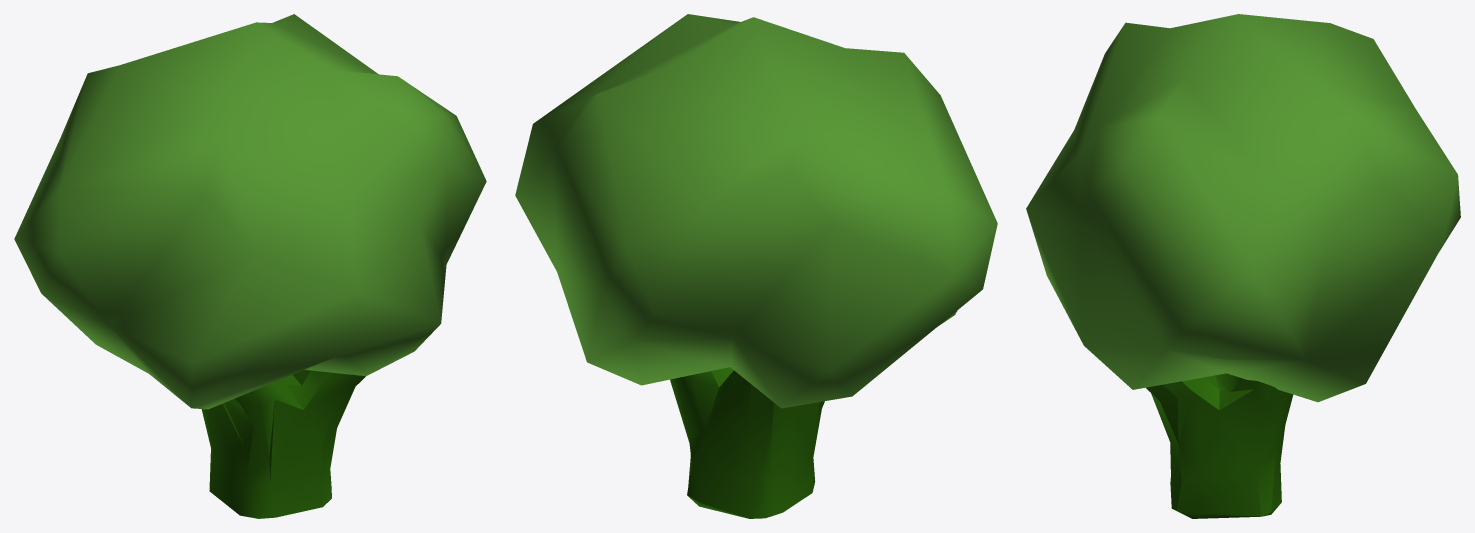
The model's file is brocoli.fbx.
3 renders of one model, left to right at view 1: azimuth 30°, elevation 25°; view 2: azimuth 150°, elevation 25°; view 3: azimuth 270°, elevation 25°, orthographic. The views are drawn at different scales.
Visible parts, largest first — view 1: Mball.014, Cube.001; view 2: Mball.014, Cube.001; view 3: Mball.014, Cube.001.
Part boxes in pixels (x1,y1,x2,y2): Mball.014: (14, 14, 486, 409); Cube.001: (201, 370, 365, 518); Mball.014: (515, 14, 997, 408); Cube.001: (670, 367, 824, 518); Mball.014: (1026, 14, 1460, 402); Cube.001: (1146, 373, 1293, 518).
Size of the model in its own units: 179 by 189 by 154.
